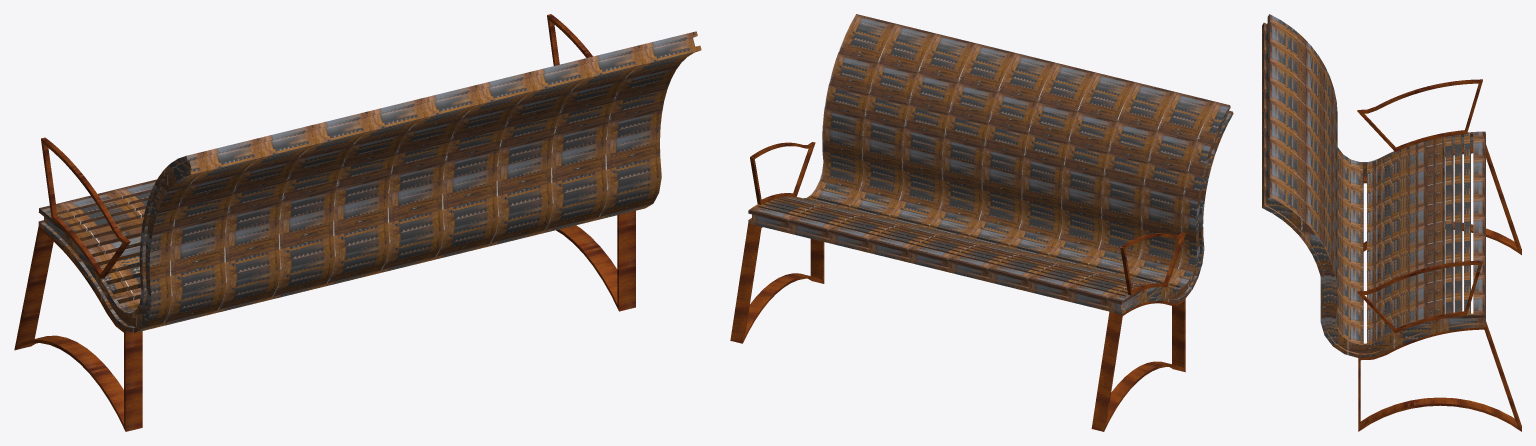
3 views of the same model, side by side, from view 1: azimuth 30°, elevation 25°; view 2: azimuth 150°, elevation 25°; view 3: azimuth 270°, elevation 25° (orthographic). The views are drawn at different scales.
Visible parts, largest first — view 1: mesh9_mesh9-geometry, mesh5_mesh5-geometry, mesh1_mesh1-geometry, mesh8_mesh8-geometry, mesh4_mesh4-geometry; view 2: mesh9_mesh9-geometry, mesh5_mesh5-geometry, mesh1_mesh1-geometry, mesh8_mesh8-geometry, mesh4_mesh4-geometry; view 3: mesh9_mesh9-geometry, mesh1_mesh1-geometry, mesh8_mesh8-geometry, mesh4_mesh4-geometry, mesh5_mesh5-geometry.
Boxes of the visible parts, left/top/right/bottom form: mesh9_mesh9-geometry: left=38, top=31, right=701, bottom=332; mesh5_mesh5-geometry: left=14, top=226, right=142, bottom=431; mesh1_mesh1-geometry: left=556, top=210, right=635, bottom=311; mesh8_mesh8-geometry: left=41, top=137, right=130, bottom=278; mesh4_mesh4-geometry: left=547, top=14, right=592, bottom=65; mesh9_mesh9-geometry: left=748, top=14, right=1233, bottom=314; mesh5_mesh5-geometry: left=1091, top=299, right=1185, bottom=431; mesh1_mesh1-geometry: left=730, top=223, right=824, bottom=343; mesh8_mesh8-geometry: left=1120, top=232, right=1185, bottom=295; mesh4_mesh4-geometry: left=750, top=142, right=815, bottom=204; mesh9_mesh9-geometry: left=1262, top=14, right=1485, bottom=357; mesh1_mesh1-geometry: left=1358, top=321, right=1521, bottom=431; mesh8_mesh8-geometry: left=1357, top=79, right=1482, bottom=151; mesh4_mesh4-geometry: left=1357, top=260, right=1482, bottom=333; mesh5_mesh5-geometry: left=1363, top=145, right=1521, bottom=254.
Size of the model in its own units: 0.7624 by 0.4574 by 0.4577.
